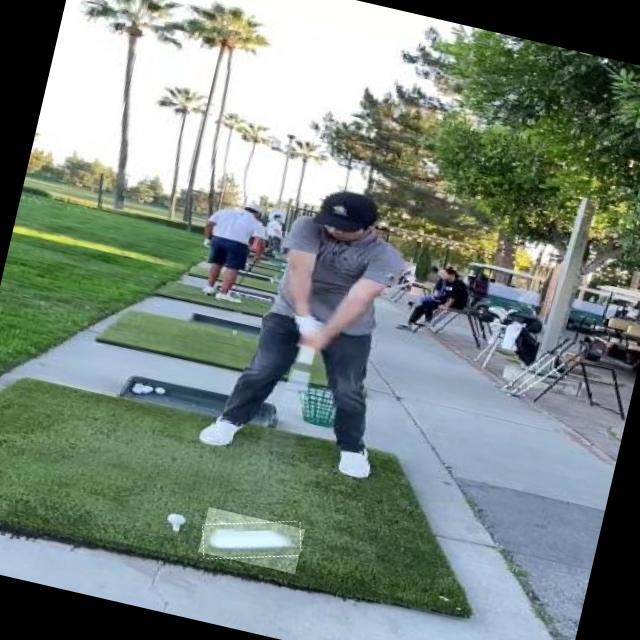club head: (198, 506, 304, 574)
